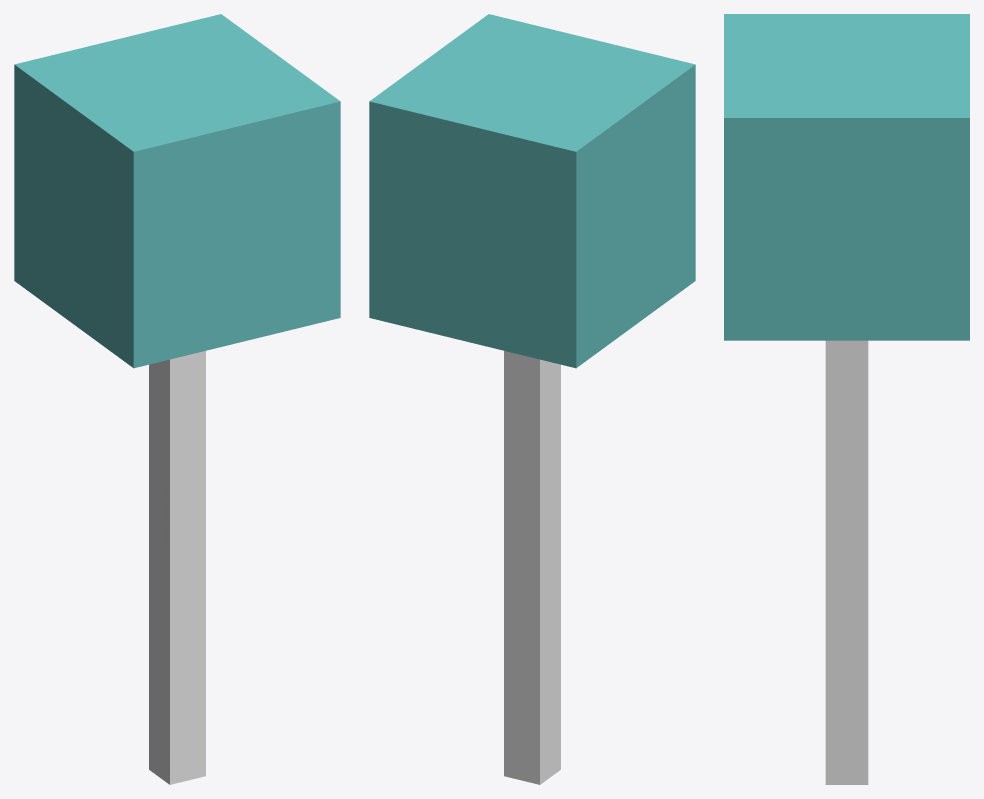
The model's file is CandylandLollypop_02.fbx.
3 views of the same model, side by side, from view 1: azimuth 30°, elevation 25°; view 2: azimuth 150°, elevation 25°; view 3: azimuth 270°, elevation 25° (orthographic). The views are drawn at different scales.
Parts seen in each view (by area): view 1: CandylandLollypop_02; view 2: CandylandLollypop_02; view 3: CandylandLollypop_02.
Boxes of the visible parts, x1,y1,x2,y2 form: CandylandLollypop_02: (14,14,340,784); CandylandLollypop_02: (369,14,695,784); CandylandLollypop_02: (724,14,969,784).
Bounding box in the file's own units: 0.2013 × 0.6416 × 0.2013.
